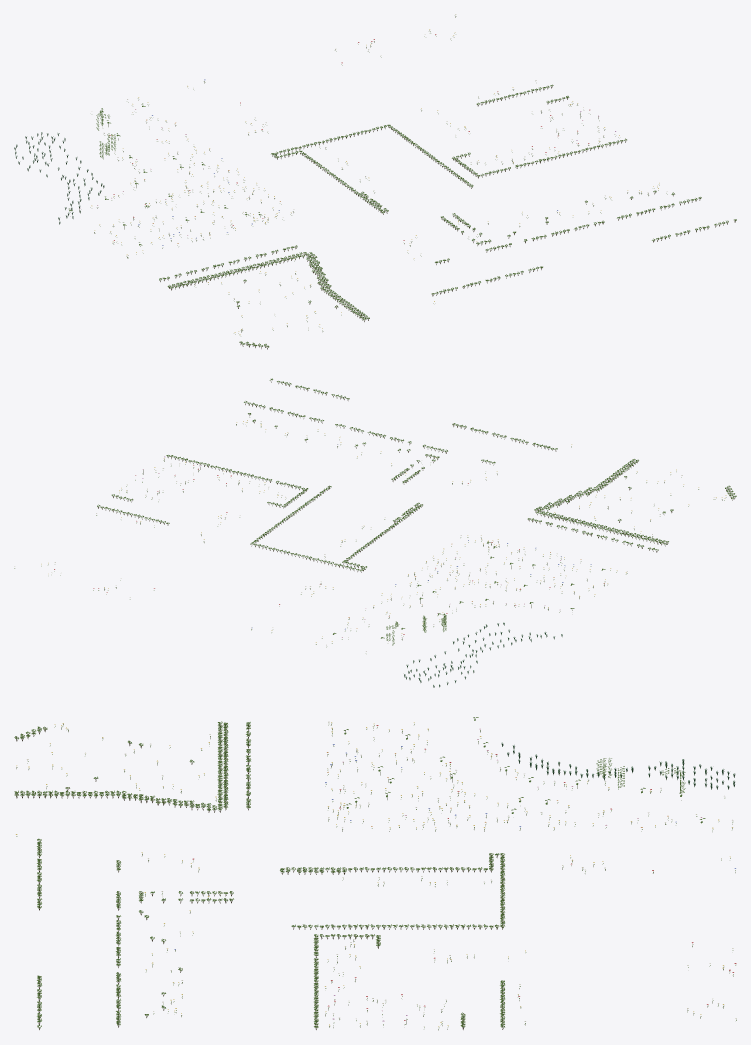
3 renders of one model, top to bottom at view 1: azimuth 30°, elevation 25°; view 2: azimuth 150°, elevation 25°; view 3: azimuth 270°, elevation 25°, orthographic. The views are drawn at different scales.
Visible parts, largest first — view 1: GROUND_FLORA_s_-7_2; view 2: GROUND_FLORA_s_-7_2; view 3: GROUND_FLORA_s_-7_2.
Part boxes in pixels (left/top/right/bottom): GROUND_FLORA_s_-7_2: left=14, top=14, right=736, bottom=349; GROUND_FLORA_s_-7_2: left=14, top=378, right=736, bottom=687; GROUND_FLORA_s_-7_2: left=14, top=717, right=736, bottom=1030.
Bounding box in the file's own units: 128 × 9 × 128.
